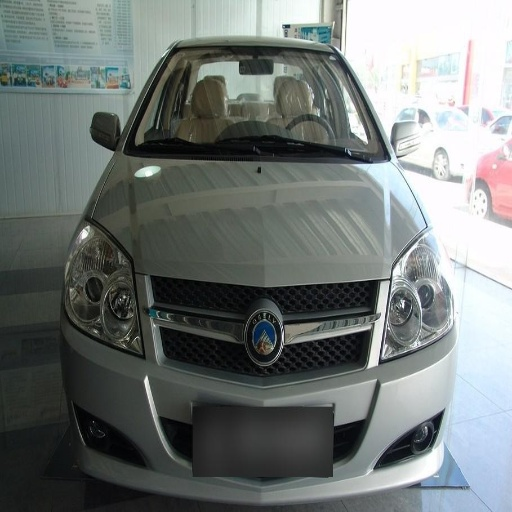front_bumper: (64, 273, 456, 508)
front_right_light: (66, 220, 142, 355)
hood: (93, 154, 425, 287)
